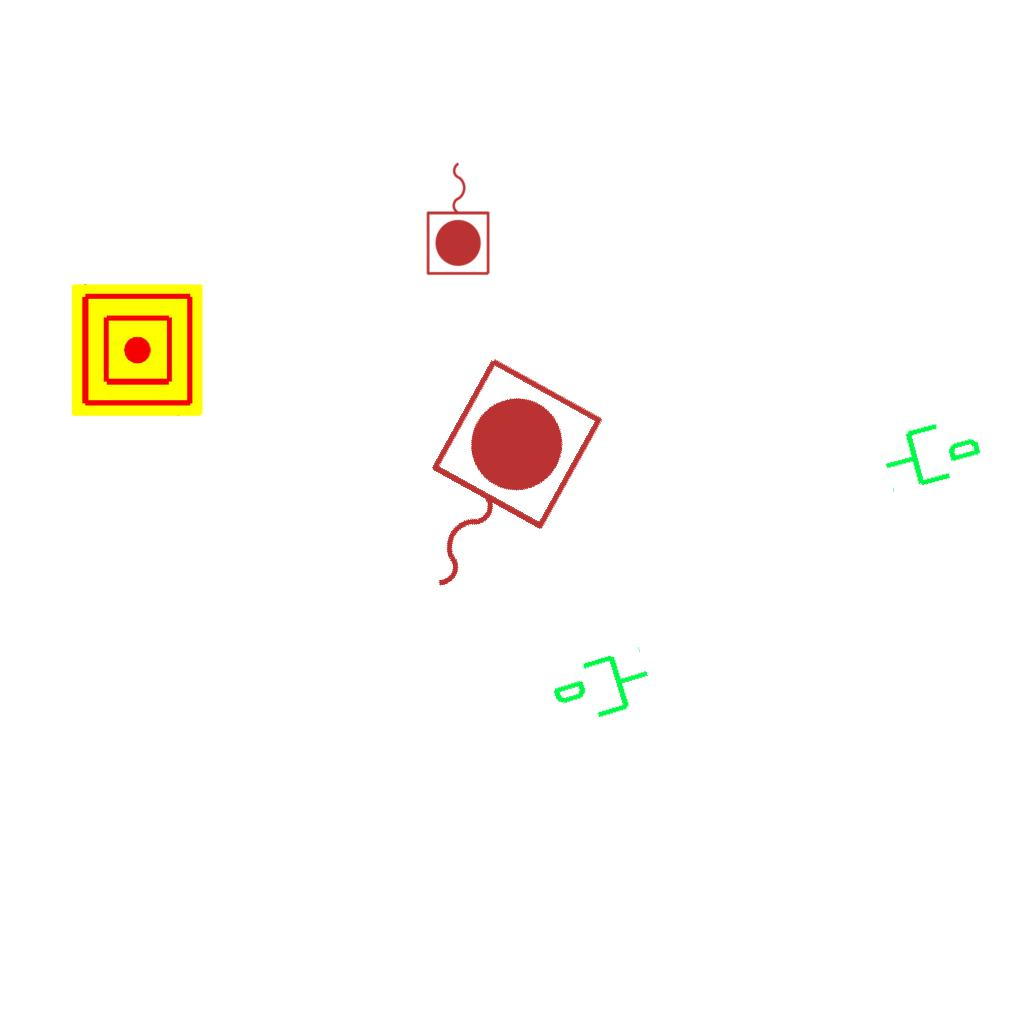Datenanschluss_einfach: (544, 641, 661, 737), (874, 405, 989, 499)
NAM-Nichtautomatischer_Melder: (71, 284, 203, 416)
Zugtaster: (368, 345, 614, 629), (423, 157, 495, 279)
